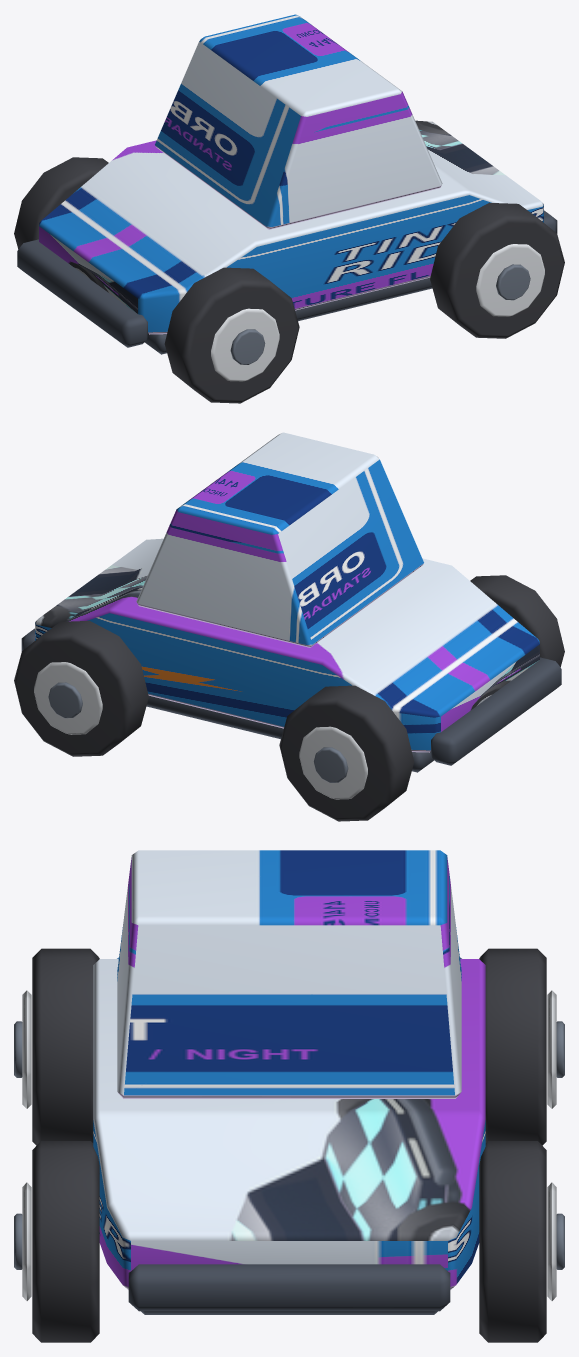
The picture shows the model from 3 angles, top to bottom: view 1: azimuth 30°, elevation 25°; view 2: azimuth 150°, elevation 25°; view 3: azimuth 270°, elevation 25°; orthographic projection. The views are drawn at different scales.
Parts seen in each view (by area): view 1: FF-02_connected_shell, FF-02_cabin, Tire.002, Tire, front bumper, Tire.001, Rim, Rim.002, underbody, Hub.002, Hub; view 2: FF-02_connected_shell, FF-02_cabin, Tire.003, Tire.001, front bumper, Tire, Rim.001, Rim.003, underbody, Hub.003, Hub.001; view 3: FF-02_cabin, FF-02_connected_shell, rear bumper, Tire.002, Tire.003, Tire, Tire.001, underbody, Rim, Rim.001, Rim.002, Rim.003.
Boxes of the visible parts, box(x1,y1,x2,y2) form: FF-02_connected_shell: box(39, 120, 543, 334); FF-02_cabin: box(155, 14, 442, 229); Tire.002: box(430, 202, 564, 338); Tire: box(164, 267, 299, 403); front bumper: box(17, 239, 148, 347); Tire.001: box(14, 157, 108, 248); Rim: box(211, 308, 279, 381); Rim.002: box(476, 244, 544, 316); underbody: box(144, 277, 432, 354); Hub.002: box(496, 264, 530, 300); Hub: box(230, 329, 265, 364); FF-02_connected_shell: box(35, 538, 539, 752); FF-02_cabin: box(136, 432, 423, 647); Tire.003: box(14, 620, 148, 756); Tire.001: box(279, 685, 414, 821); front bumper: box(430, 657, 561, 765); Tire: box(470, 575, 564, 666); Rim.001: box(299, 726, 367, 799); Rim.003: box(34, 662, 102, 734); underbody: box(146, 695, 434, 772); Hub.003: box(48, 682, 82, 718); Hub.001: box(313, 747, 348, 782); FF-02_cabin: box(117, 850, 461, 1098); FF-02_connected_shell: box(93, 957, 485, 1289); rear bumper: box(128, 1264, 450, 1311); Tire.002: box(32, 1141, 99, 1342); Tire.003: box(479, 1141, 546, 1342); Tire: box(32, 948, 99, 1145); Tire.001: box(479, 948, 546, 1145); underbody: box(141, 1311, 437, 1314); Rim: box(22, 990, 31, 1108); Rim.001: box(547, 990, 556, 1108); Rim.002: box(22, 1182, 31, 1300); Rim.003: box(547, 1182, 556, 1300).
Bounding box in the file's own units: 288 × 154 × 212.
